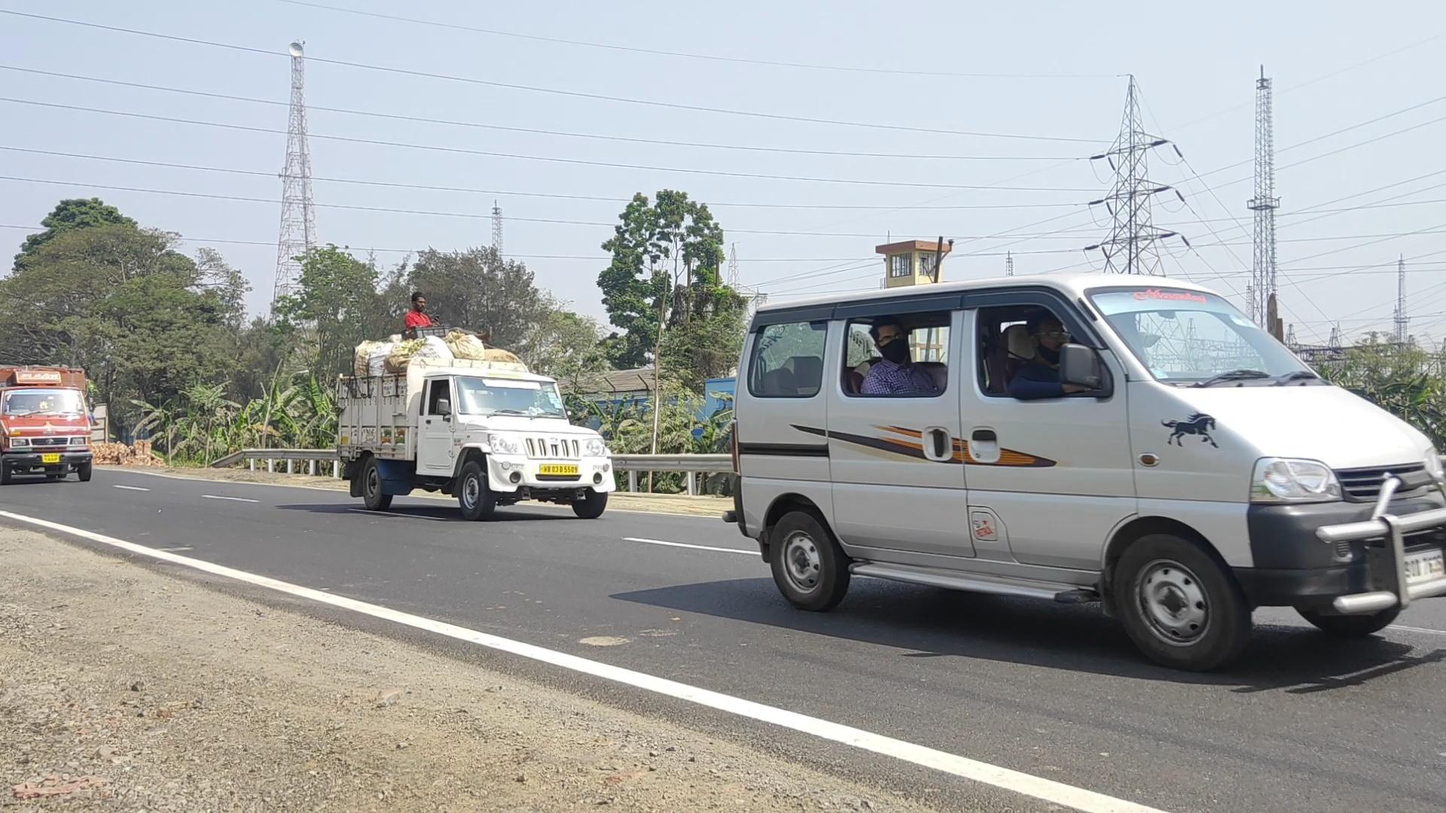truck: (1, 364, 94, 486)
van: (723, 273, 1446, 671), (333, 291, 617, 522)
